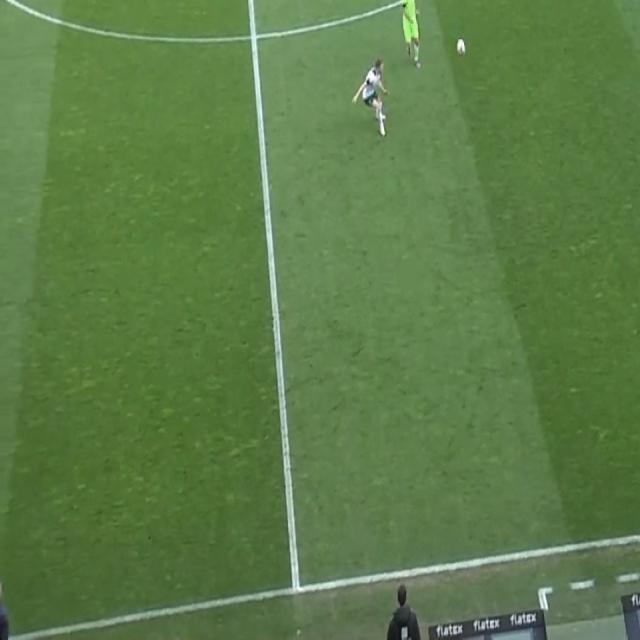ball: (454, 36, 467, 59)
